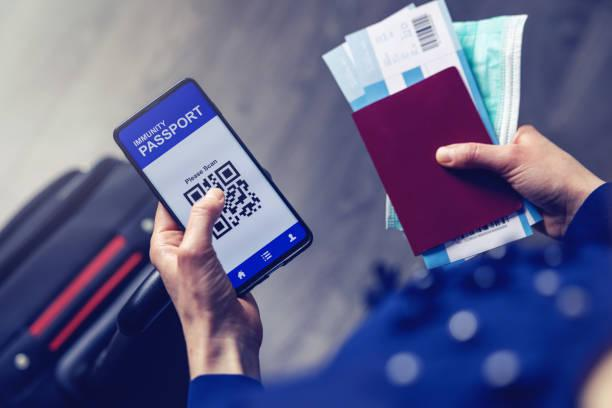Finder pattern: (212, 160, 243, 187), (181, 185, 211, 208), (206, 213, 232, 239)
